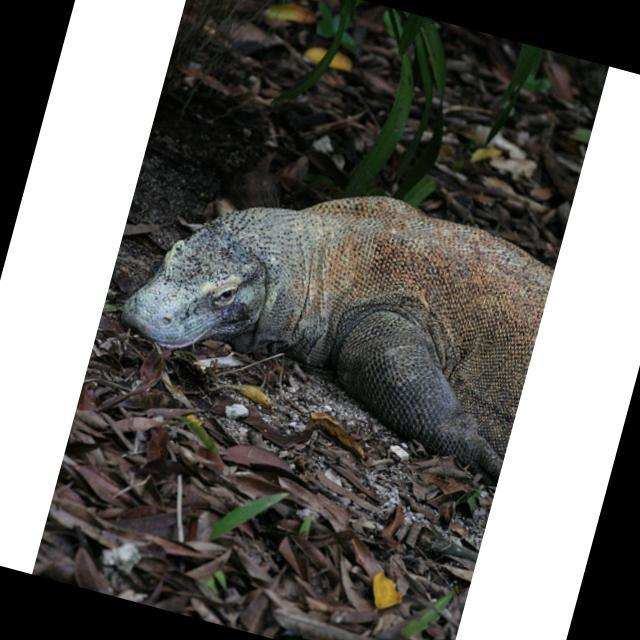KomodoDragon: (106, 141, 560, 485)
